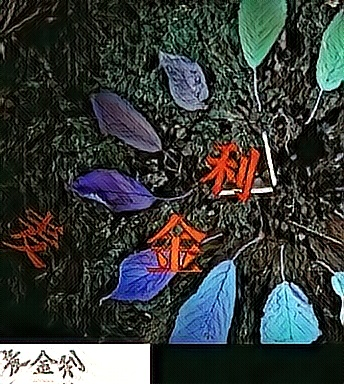BDF0: (144, 210, 208, 276)
C0FB: (199, 138, 263, 204)
C2F3: (4, 205, 68, 271)
